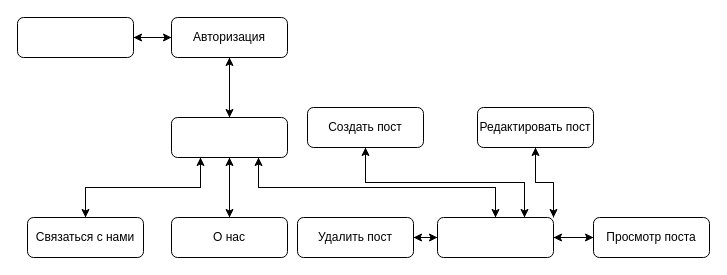
Image size: 727x275. Some labels were removed from this diagram. Each missing label, with the centre of its shape:
"Главное окно" belongs at (x=229, y=137).
"Посты" belongs at (x=495, y=237).
"Регистрация" belongs at (x=75, y=37).
